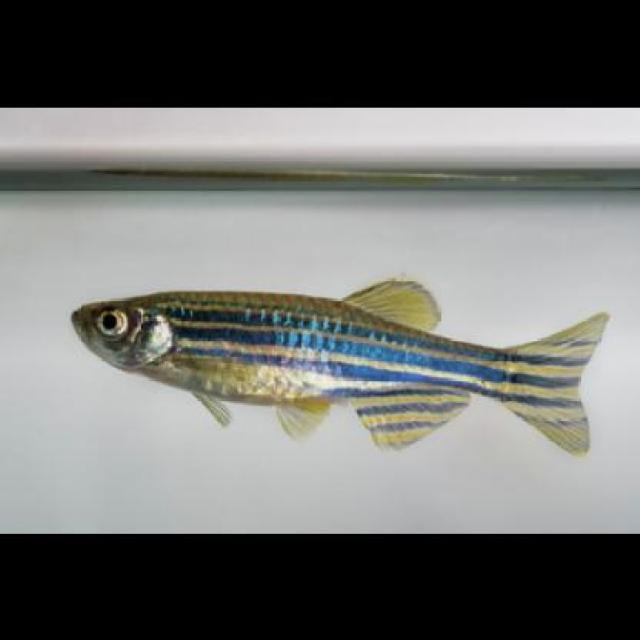ZebraFish: (70, 273, 610, 462)
